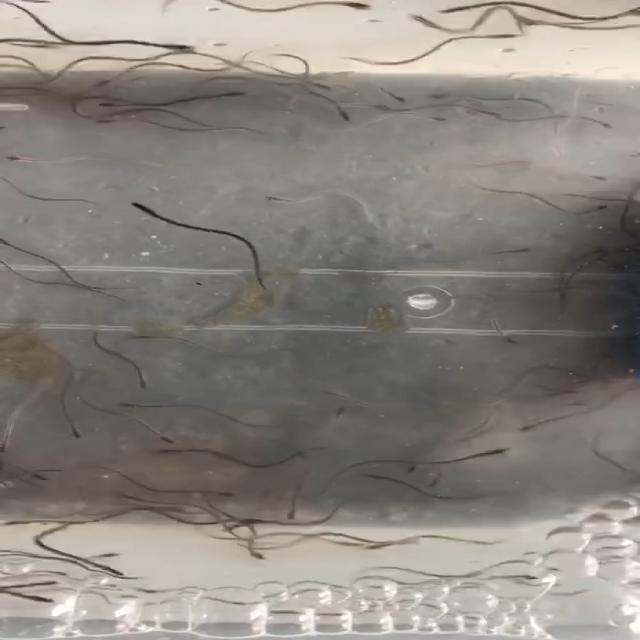active_glass_eel: (429, 0, 487, 17), (85, 74, 136, 92), (227, 590, 266, 612), (216, 88, 266, 105), (57, 415, 92, 439), (493, 566, 534, 586), (108, 398, 154, 415), (230, 518, 280, 533), (133, 371, 167, 393), (24, 576, 73, 591), (3, 0, 52, 15), (113, 200, 161, 215), (121, 327, 153, 348), (346, 540, 394, 554), (263, 504, 307, 519), (426, 466, 452, 491), (146, 550, 200, 562), (190, 451, 226, 469), (580, 115, 620, 131), (324, 0, 377, 12), (501, 239, 536, 257), (569, 592, 608, 608), (84, 548, 125, 563), (126, 532, 166, 547), (165, 37, 200, 54), (155, 428, 186, 447), (398, 455, 426, 476), (19, 464, 45, 486), (581, 172, 624, 185), (324, 401, 350, 422), (0, 516, 34, 532), (263, 190, 296, 206), (600, 191, 640, 204), (492, 30, 535, 42), (499, 332, 531, 348), (512, 421, 546, 436), (393, 13, 432, 26), (208, 486, 244, 500), (64, 95, 90, 114), (488, 445, 518, 461), (42, 593, 74, 608), (302, 75, 336, 89), (244, 548, 278, 562), (339, 536, 373, 550), (88, 115, 124, 128), (609, 361, 640, 376), (0, 434, 20, 457), (367, 101, 394, 118), (86, 95, 112, 112), (100, 562, 122, 582), (466, 108, 502, 120), (331, 108, 364, 121), (516, 15, 549, 27), (111, 493, 147, 504), (593, 97, 624, 109), (378, 397, 408, 409), (0, 233, 22, 249), (589, 204, 616, 217), (0, 179, 25, 192), (242, 42, 271, 53), (8, 153, 43, 162), (17, 67, 48, 77), (389, 95, 417, 106)
